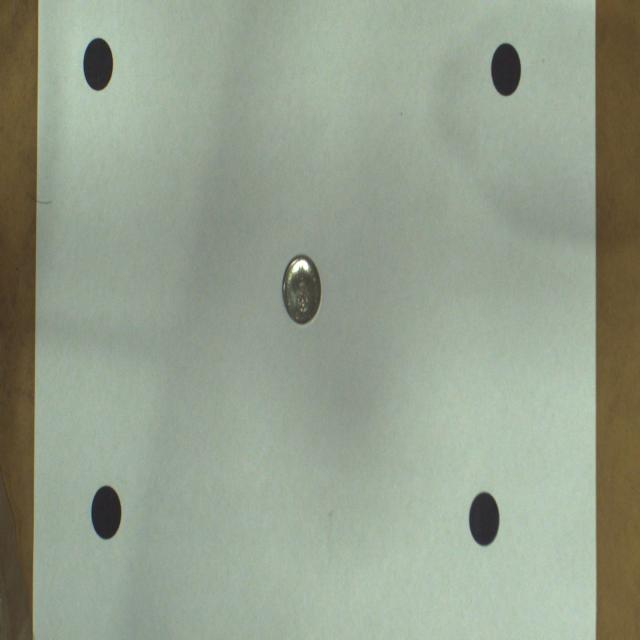space: (469, 491, 500, 547), (91, 484, 121, 540), (491, 42, 521, 96), (84, 38, 114, 91)
tail1bath: (282, 256, 321, 324)
